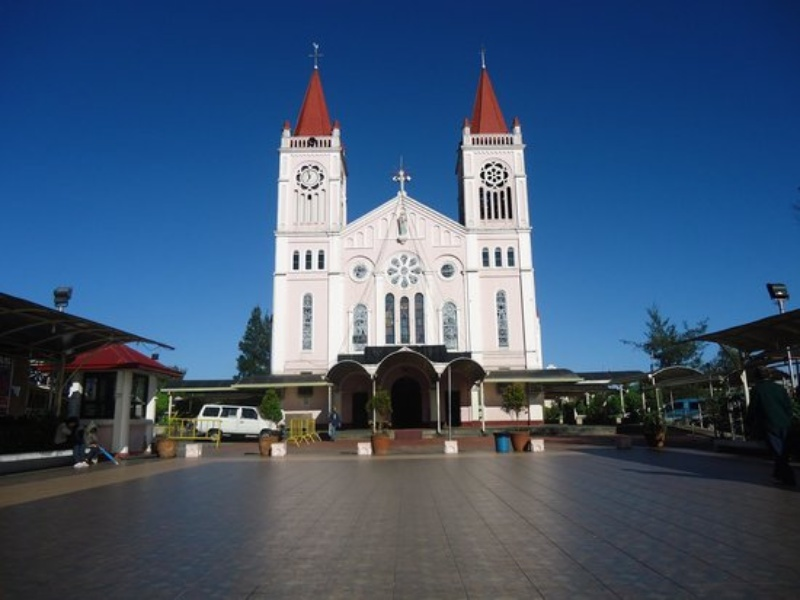Cathedral: (262, 22, 562, 458)
